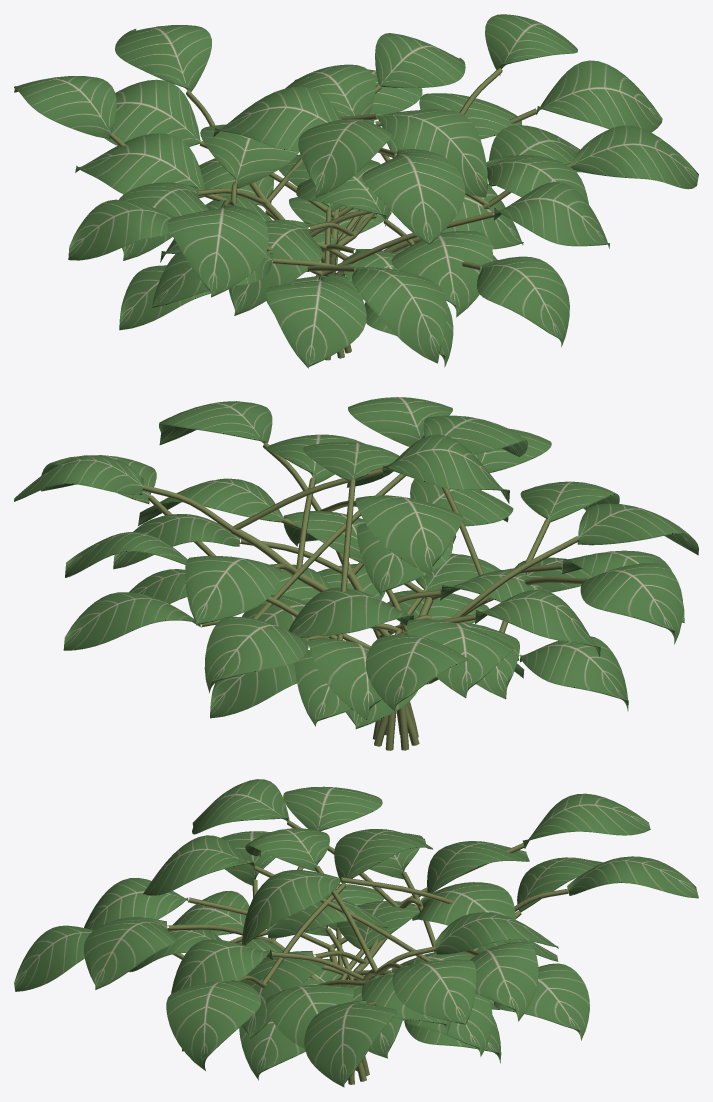
Rendered from fittonia-stage-5.glb.
3 renders of one model, top to bottom at view 1: azimuth 30°, elevation 25°; view 2: azimuth 150°, elevation 25°; view 3: azimuth 270°, elevation 25°, orthographic. The views are drawn at different scales.
Visible parts, largest first — view 1: PlantBranches, Leaf_39, Leaf_14, Leaf_26, Leaf_28, Leaf_23, Leaf_32, Leaf_34, Leaf_41, Leaf_10, Leaf_19, Leaf_37 (+26 smaller); view 2: PlantBranches, Leaf_35, Leaf_20, Leaf_31, Leaf_40, Leaf_29, Leaf_12, Leaf_38, Leaf_37, Leaf_27, Leaf_10, Leaf_26 (+30 smaller); view 3: PlantBranches, Leaf_34, Leaf_23, Leaf_36, Leaf_30, Leaf_25, Leaf_41, Leaf_29, Leaf_38, Leaf_21, Leaf_39, Leaf_40 (+25 smaller).
Boxes of the visible parts, x1,y1,x2,y2 form: PlantBranches: (109,68,572,360); Leaf_39: (362,149,465,244); Leaf_14: (266,275,366,368); Leaf_26: (167,204,268,297); Leaf_28: (352,267,446,363); Leaf_23: (536,60,662,132); Leaf_32: (477,256,569,347); Leaf_34: (571,125,698,189); Leaf_41: (377,109,487,197); Leaf_10: (75,133,204,198); Leaf_19: (391,231,492,317); Leaf_37: (298,119,391,197); PlantBranches: (142,443,585,750); Leaf_35: (355,495,463,575); Leaf_20: (185,556,282,625); Leaf_31: (580,563,683,644); Leaf_40: (204,616,308,693); Leaf_29: (365,634,468,711); Leaf_12: (520,636,628,710); Leaf_38: (63,592,200,650); Leaf_37: (383,434,509,503); Leaf_27: (288,587,413,637); Leaf_10: (407,619,513,698); Leaf_26: (577,503,698,555); PlantBranches: (168,820,568,1084); Leaf_34: (166,980,261,1070); Leaf_23: (304,1000,396,1087); Leaf_36: (392,959,476,1025); Leaf_30: (84,917,177,989); Leaf_25: (470,941,538,1021); Leaf_41: (241,870,340,945); Leaf_29: (523,793,650,848); Leaf_38: (494,963,589,1040); Leaf_21: (171,939,272,993); Leaf_39: (143,835,255,895); Leaf_40: (567,856,698,898).
Bounding box in the file's own units: 2.13 × 0.869 × 2.24.
Materials: 2 (1 with a texture image).
